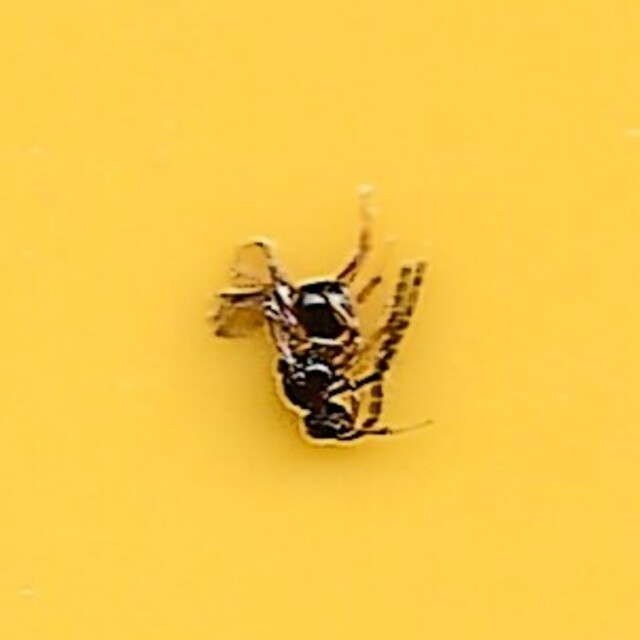Hymenoptera: (212, 196, 428, 444)
